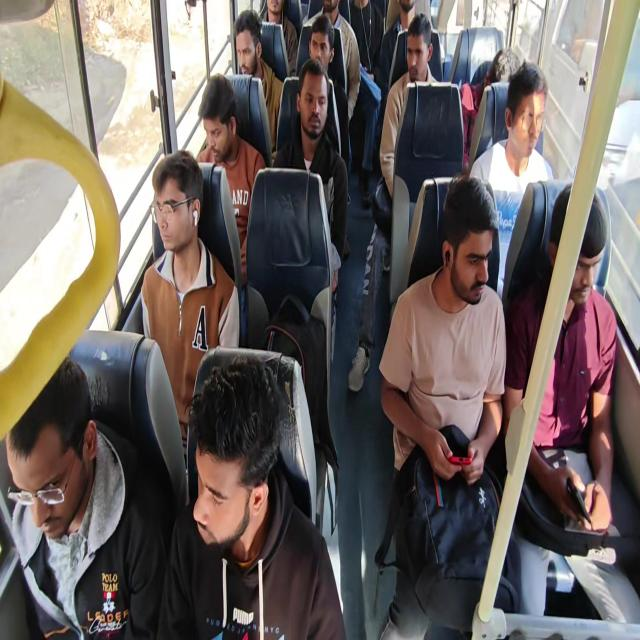person: (182, 332, 286, 592), (431, 158, 527, 418), (539, 192, 640, 433), (0, 363, 101, 570), (145, 169, 208, 291), (507, 70, 550, 170), (189, 89, 233, 159), (350, 0, 385, 71), (296, 64, 322, 144), (238, 18, 265, 95), (486, 51, 518, 94), (413, 25, 438, 78), (266, 0, 295, 38), (397, 0, 423, 37), (307, 21, 330, 61), (314, 4, 340, 30)
